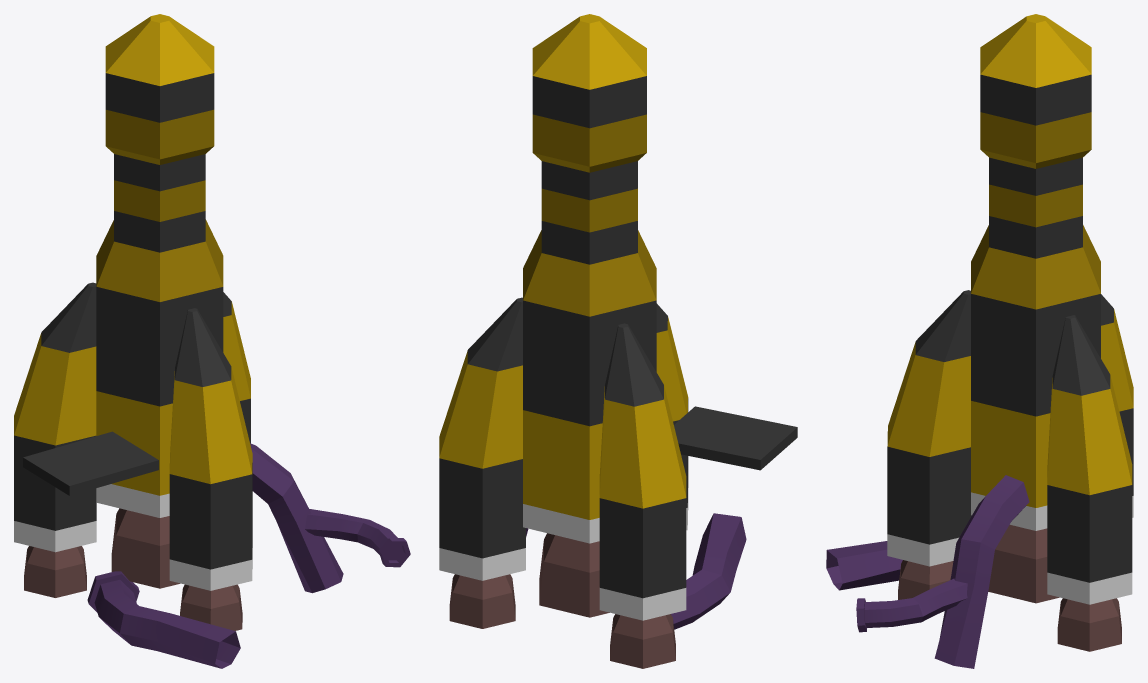
The model's file is Coete2.fbx.
3 views of the same model, side by side, from view 1: azimuth 30°, elevation 25°; view 2: azimuth 150°, elevation 25°; view 3: azimuth 270°, elevation 25° (orthographic). The views are drawn at different scales.
Parts seen in each view (by area): view 1: Level05_PlatformHC2; view 2: Level05_PlatformHC2; view 3: Level05_PlatformHC2.
Boxes of the visible parts, x1,y1,x2,y2 form: Level05_PlatformHC2: (14, 14, 410, 668); Level05_PlatformHC2: (439, 14, 797, 668); Level05_PlatformHC2: (826, 14, 1133, 668).
Bounding box in the file's own units: 840 × 1494 × 694.
